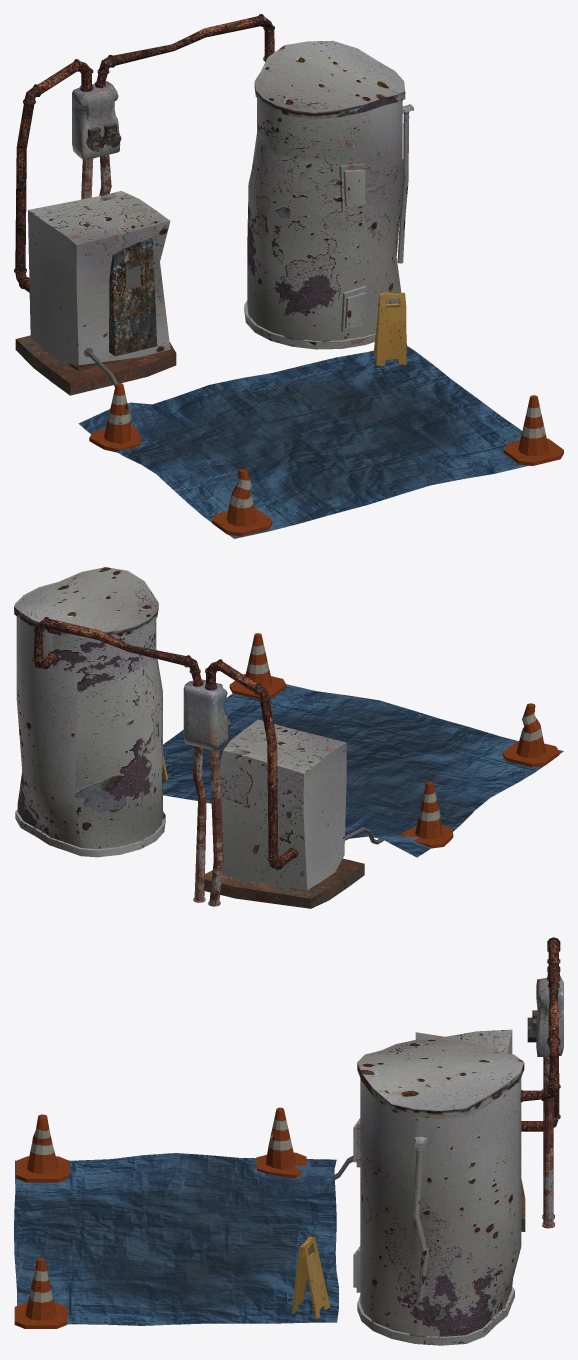
The model's file is Power.fbx.
3 views of the same model, one above another, from view 1: azimuth 30°, elevation 25°; view 2: azimuth 150°, elevation 25°; view 3: azimuth 270°, elevation 25° (orthographic). The views are drawn at different scales.
Parts seen in each view (by area): view 1: pPlane1, pCylinder11, pCube3, WaterPipe20, pCube4, WaterPipe26, pCube8, pCone3, pCone2, pCone5; view 2: pCylinder11, pPlane1, pCube3, WaterPipe20, pCube4, WaterPipe26, pCone2, WaterPipe13, pCone5, WaterPipe12, pCone3; view 3: pPlane1, pCylinder11, pCone3, pCone2, pCone5, pCube8, WaterPipe26, WaterPipe12, pCube4, pCube3, WaterPipe20.
Boxes of the visible parts, <box> form: pPlane1: <box>78,346,528,538</box>; pCylinder11: <box>244,40,413,349</box>; pCube3: <box>15,191,176,395</box>; WaterPipe20: <box>14,59,93,292</box>; pCube4: <box>72,81,120,159</box>; WaterPipe26: <box>95,14,274,87</box>; pCube8: <box>373,292,407,365</box>; pCone3: <box>503,395,563,465</box>; pCone2: <box>212,468,272,536</box>; pCone5: <box>89,383,140,452</box>; pCylinder11: <box>14,567,165,857</box>; pPlane1: <box>163,684,563,857</box>; pCube3: <box>204,719,364,908</box>; WaterPipe20: <box>205,659,298,869</box>; pCube4: <box>183,679,228,750</box>; WaterPipe26: <box>32,617,203,686</box>; pCone2: <box>502,703,559,767</box>; WaterPipe13: <box>208,750,223,906</box>; pCone5: <box>401,781,453,848</box>; WaterPipe12: <box>193,746,206,902</box>; pCone3: <box>229,633,286,699</box>; pPlane1: <box>14,1153,338,1325</box>; pCylinder11: <box>353,1038,524,1345</box>; pCone3: <box>14,1258,67,1328</box>; pCone2: <box>16,1114,69,1182</box>; pCone5: <box>256,1107,306,1178</box>; pCube8: <box>291,1236,329,1319</box>; WaterPipe26: <box>520,963,560,1102</box>; WaterPipe12: <box>542,1056,554,1228</box>; pCube4: <box>536,975,563,1056</box>; pCube3: <box>415,1029,525,1231</box>; WaterPipe20: <box>521,937,560,1131</box>.
Bounding box in the file's own units: 2.36 × 1.56 × 2.85.
Materials: 9 (7 with a texture image).
